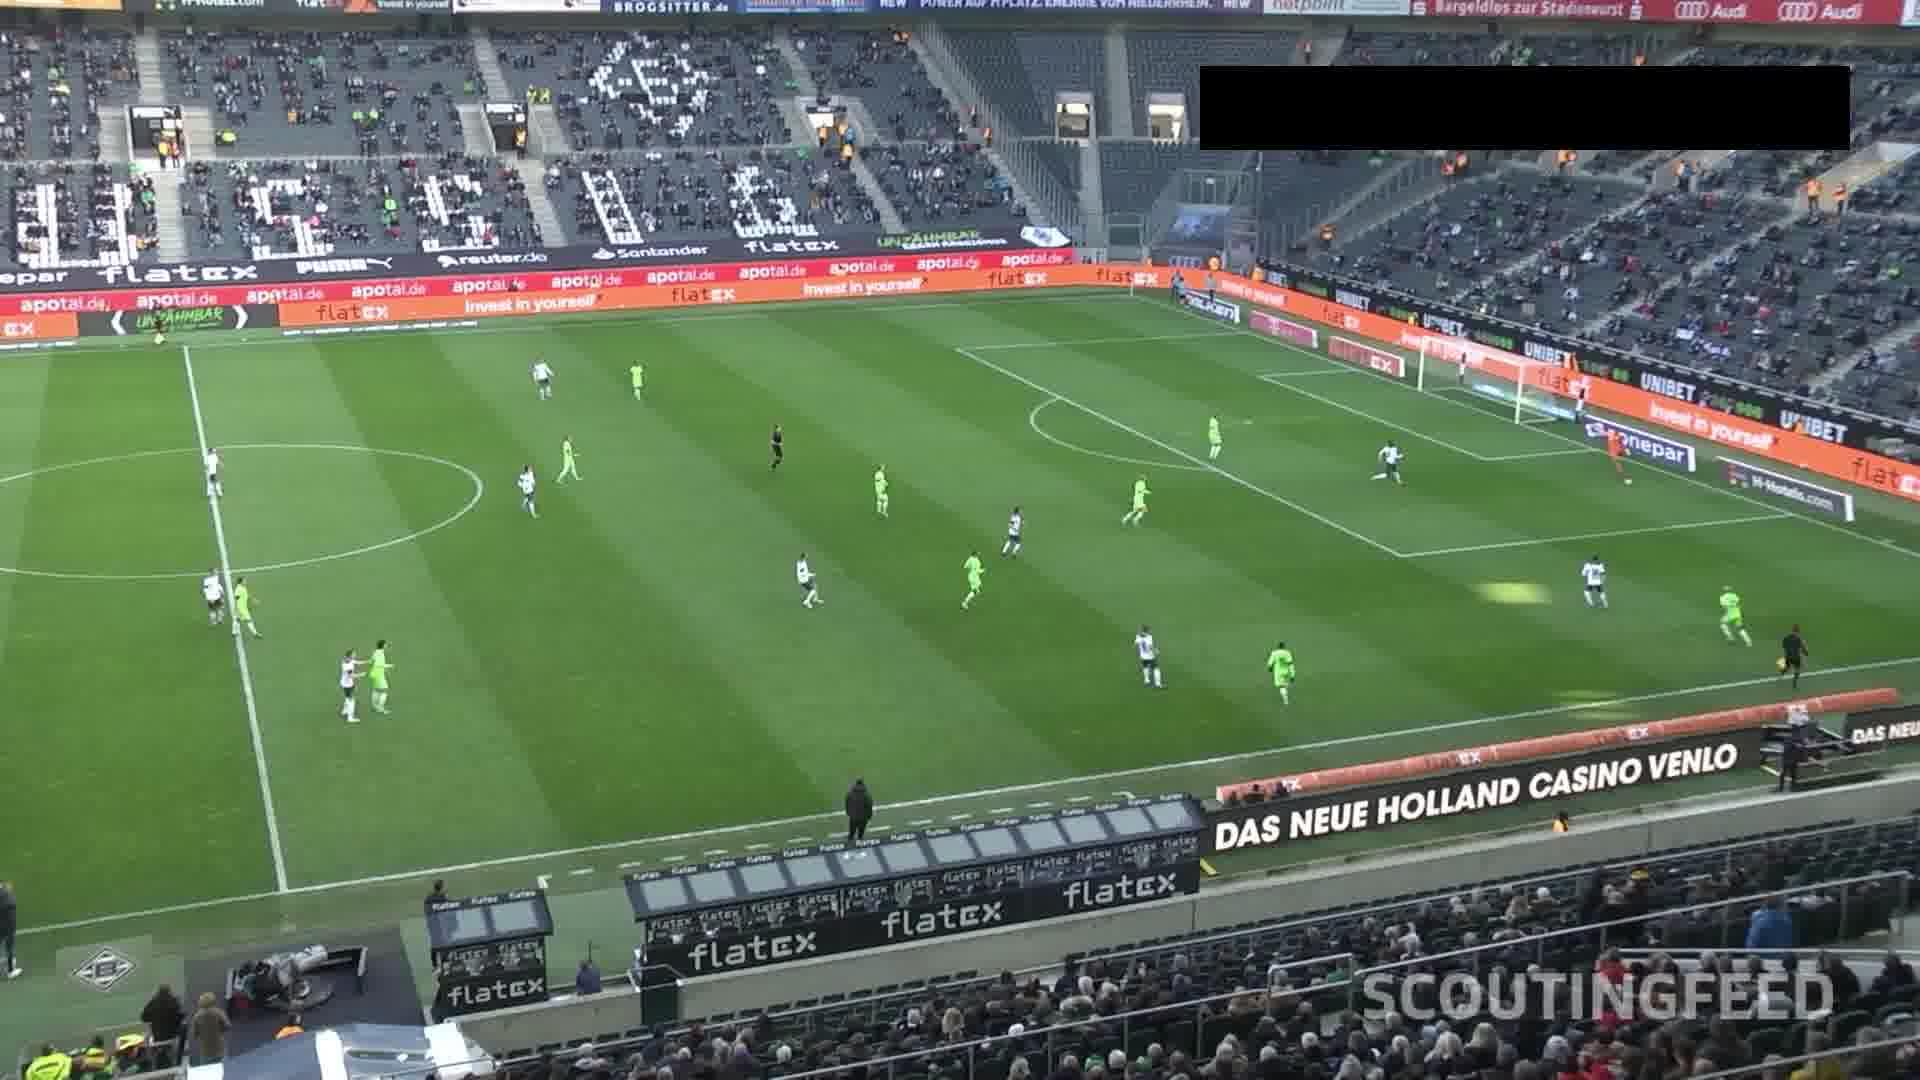football: (1623, 479, 1633, 487)
